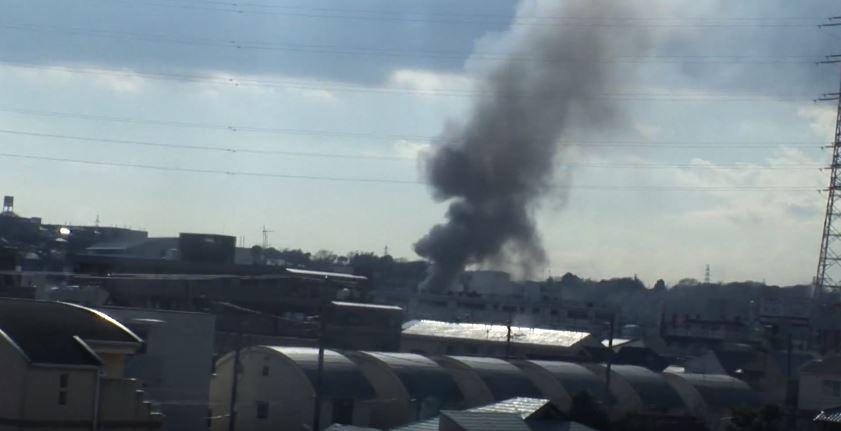smoke: (421, 144, 524, 249), (520, 4, 598, 138)
